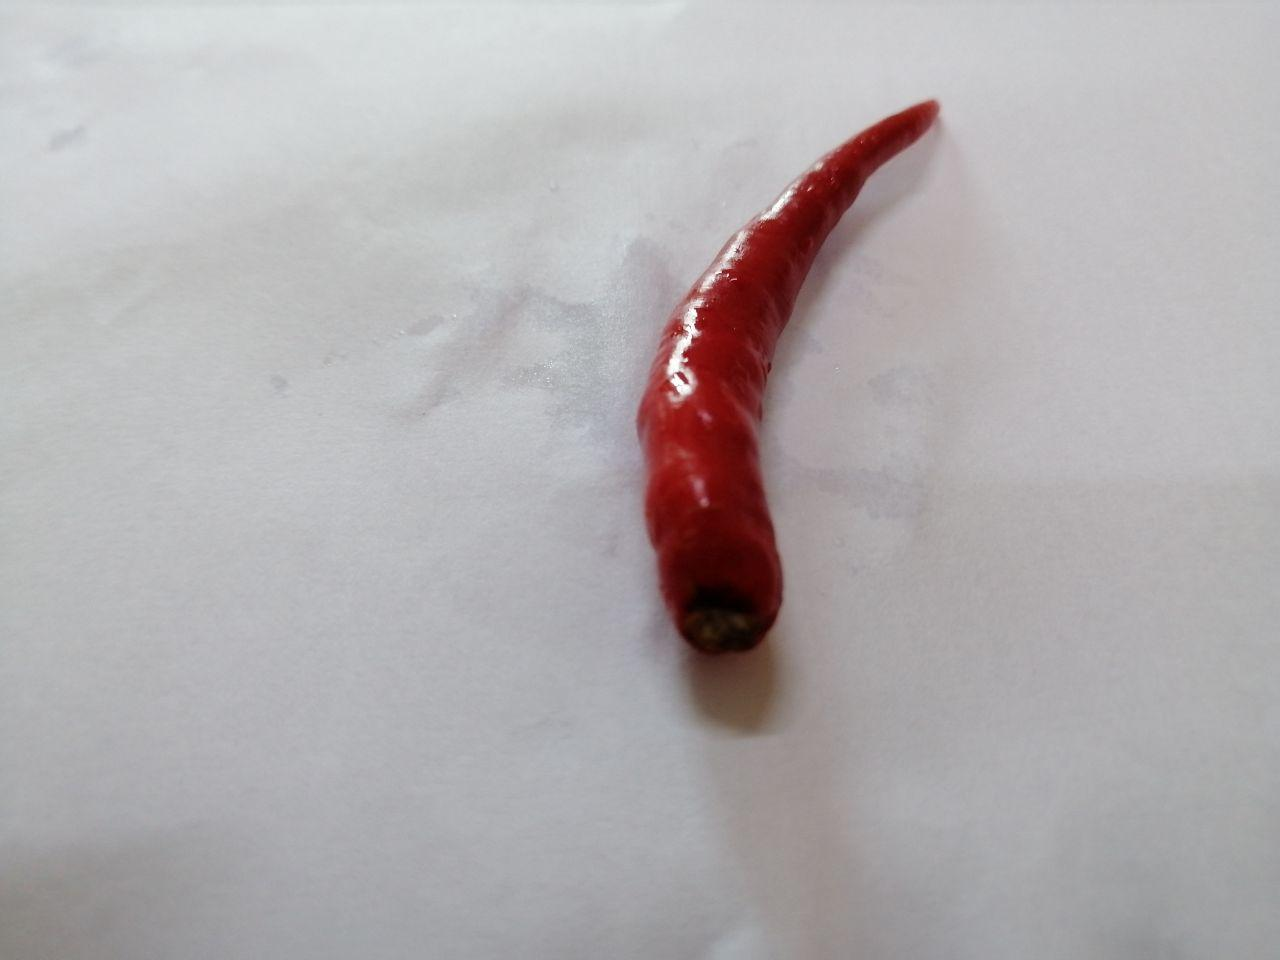lada merah: (613, 90, 959, 672)
